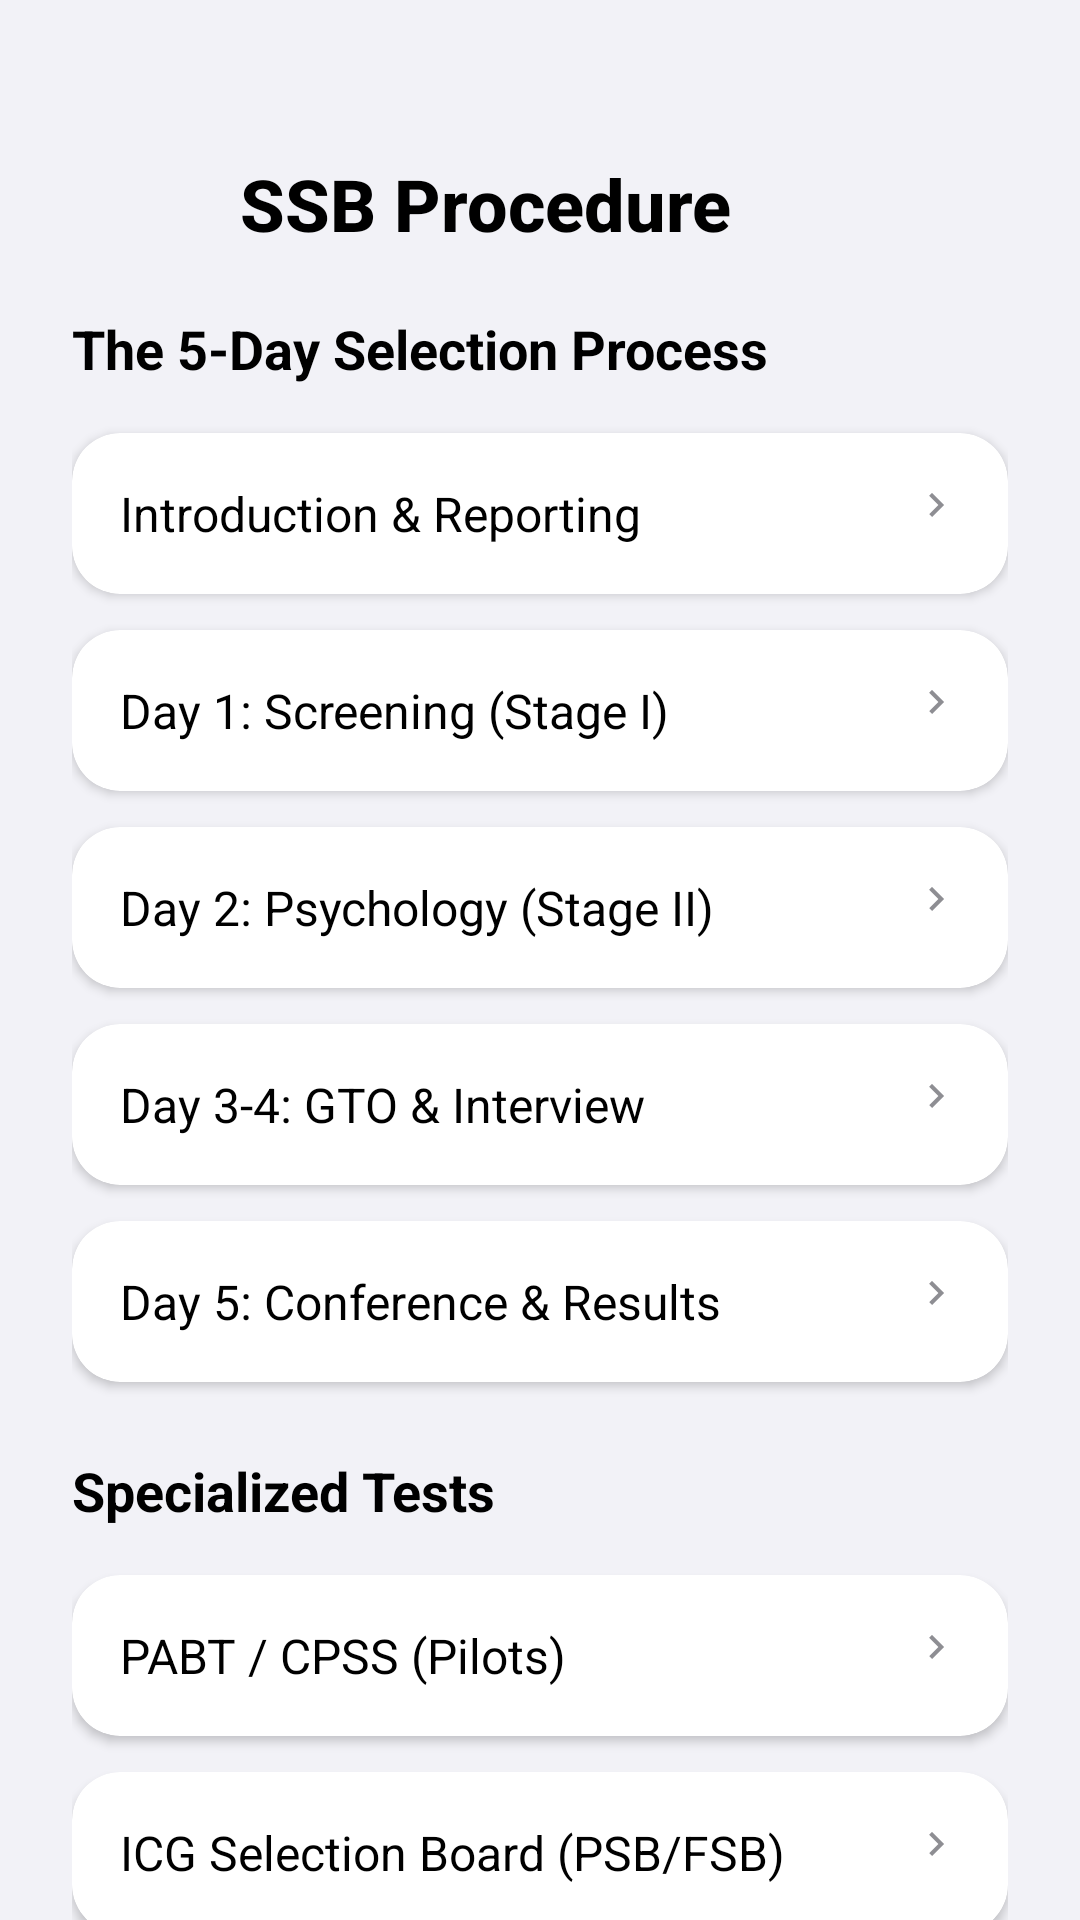

Icons on this 1080 × 1920 Android screen, each with the point to tap as point (x, y):
arrow forward: point (936, 505), point (936, 702), point (936, 899), point (936, 1096), point (936, 1293), point (936, 1647), point (936, 1844)
